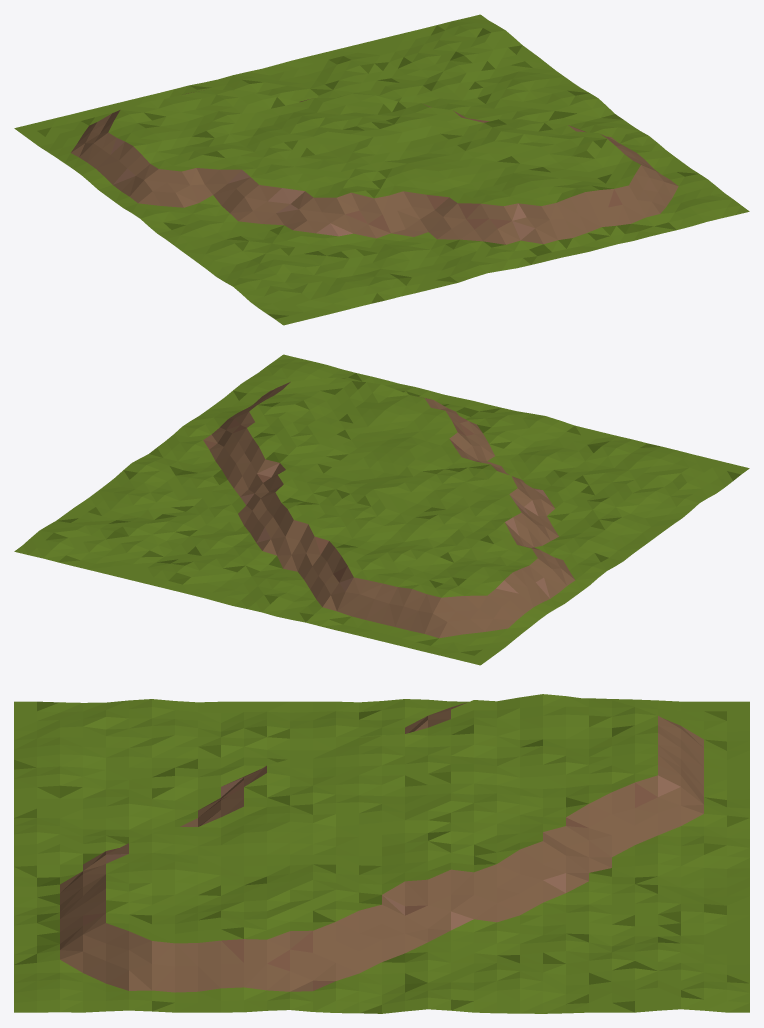
File: mesh_terrain_small_03.fbx
The picture shows the model from 3 angles, top to bottom: view 1: azimuth 30°, elevation 25°; view 2: azimuth 150°, elevation 25°; view 3: azimuth 270°, elevation 25°; orthographic projection. The views are drawn at different scales.
Parts seen in each view (by area): view 1: mesh_terrain_small_03; view 2: mesh_terrain_small_03; view 3: mesh_terrain_small_03.
Part boxes in pixels (x1=…): mesh_terrain_small_03: x1=14, y1=14, x2=749, y2=325; mesh_terrain_small_03: x1=14, y1=354, x2=749, y2=665; mesh_terrain_small_03: x1=14, y1=694, x2=749, y2=1013.
Bounding box in the file's own units: 20 × 1.17 × 20.
